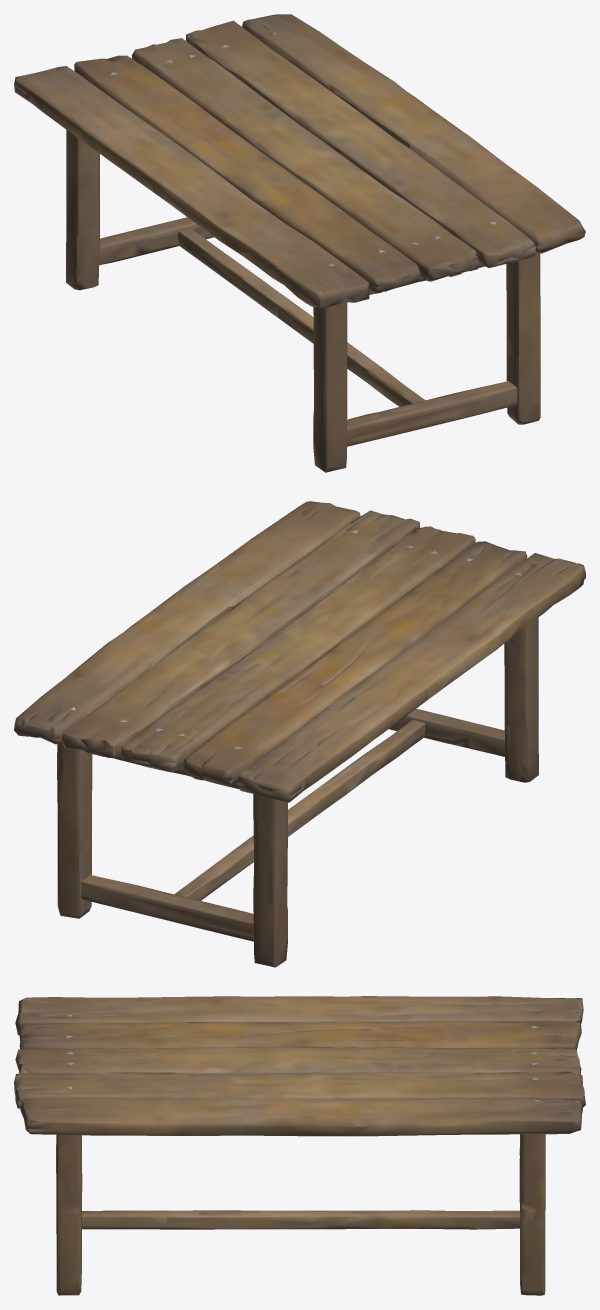
The model's file is WoodTable_C.glb.
3 renders of one model, top to bottom at view 1: azimuth 30°, elevation 25°; view 2: azimuth 150°, elevation 25°; view 3: azimuth 270°, elevation 25°, orthographic. The views are drawn at different scales.
Parts seen in each view (by area): view 1: SM_WoodTable; view 2: SM_WoodTable; view 3: SM_WoodTable.
Boxes of the visible parts, x1=… form: SM_WoodTable: x1=14, y1=14, x2=585, y2=472; SM_WoodTable: x1=14, y1=501, x2=585, y2=967; SM_WoodTable: x1=14, y1=996, x2=585, y2=1295.
Size of the model in its own units: 1.05 by 0.7251 by 1.96.
Materials: 1 (1 with a texture image).
